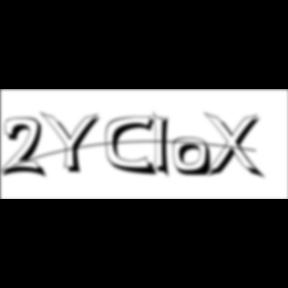2: (0, 117, 50, 181)
C: (106, 115, 161, 178)
I: (153, 110, 177, 182)
X: (204, 112, 268, 182)
Y: (39, 110, 106, 176)
o: (172, 137, 214, 179)
